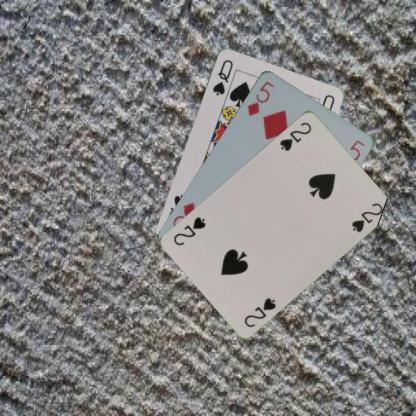2s: (242, 294, 277, 329), (278, 118, 312, 152)
5d: (245, 78, 276, 117)
Qs: (210, 57, 234, 96)
